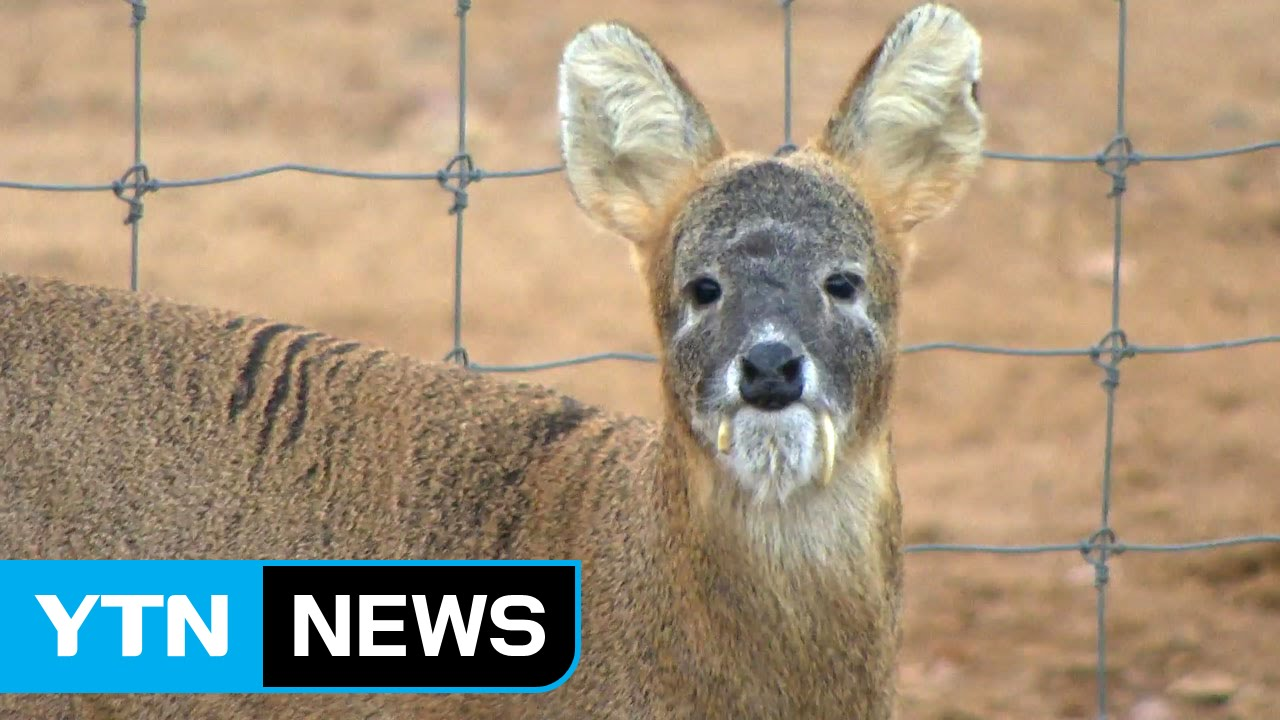elk: (11, 8, 981, 703)
